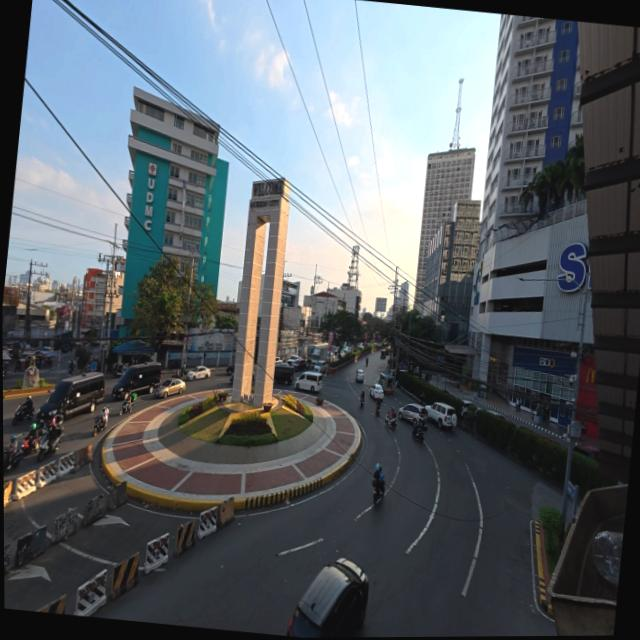Jeepneys: (379, 373, 395, 394)
car: (287, 559, 368, 637), (426, 403, 457, 428), (399, 403, 428, 426), (155, 379, 186, 398), (574, 444, 599, 461), (186, 366, 210, 380), (461, 400, 479, 417), (486, 409, 507, 420), (370, 383, 384, 399), (295, 358, 307, 372), (314, 361, 328, 373), (354, 368, 364, 382), (40, 347, 53, 355), (289, 355, 301, 363), (227, 364, 234, 374), (275, 357, 282, 365), (357, 343, 364, 350), (230, 367, 233, 382)
motorcycle: (37, 428, 62, 462), (13, 404, 34, 425), (21, 434, 41, 456), (3, 450, 21, 472), (92, 416, 106, 436), (373, 479, 384, 504), (412, 424, 427, 442), (119, 400, 133, 416), (385, 414, 397, 429), (376, 400, 380, 416), (69, 363, 74, 374), (360, 397, 364, 408)
trucks: (310, 343, 329, 369)
vans: (38, 373, 105, 422), (113, 363, 161, 399), (296, 372, 323, 393), (274, 363, 294, 385)
